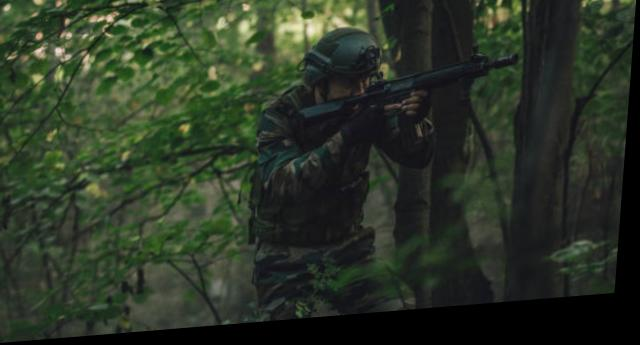other: (253, 33, 406, 326)
